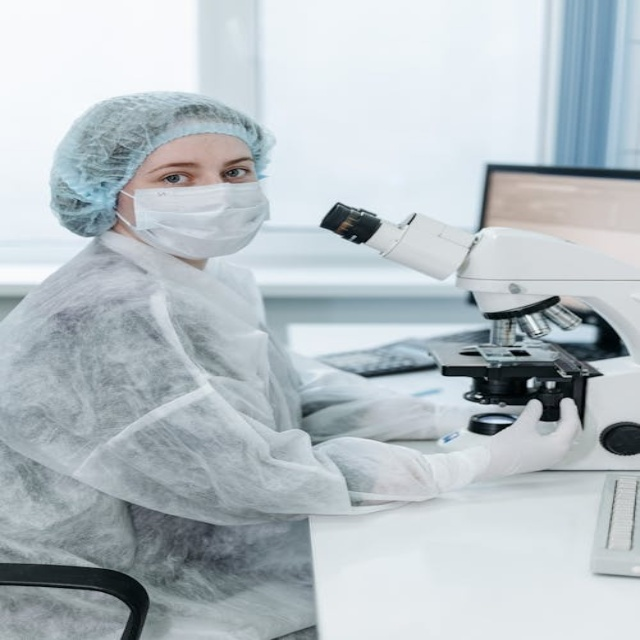Guantes: (463, 394, 581, 482)
Mascara: (115, 181, 271, 259)
Sin_gafas: (147, 154, 259, 192)
